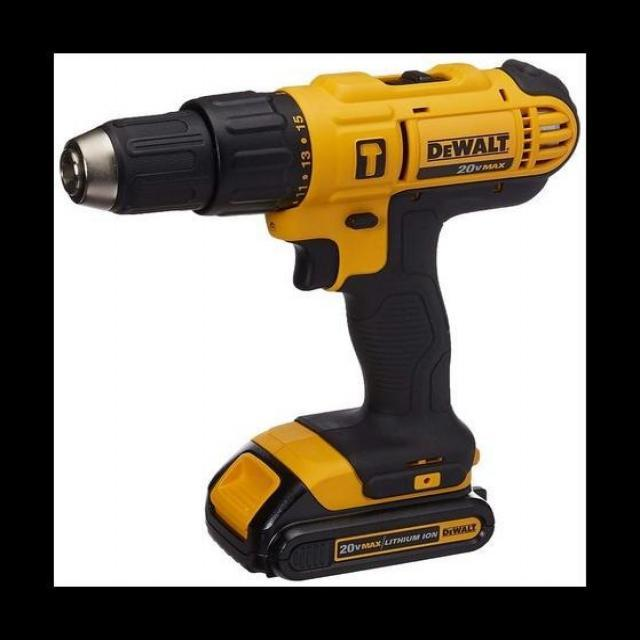drill: (60, 58, 581, 582)
